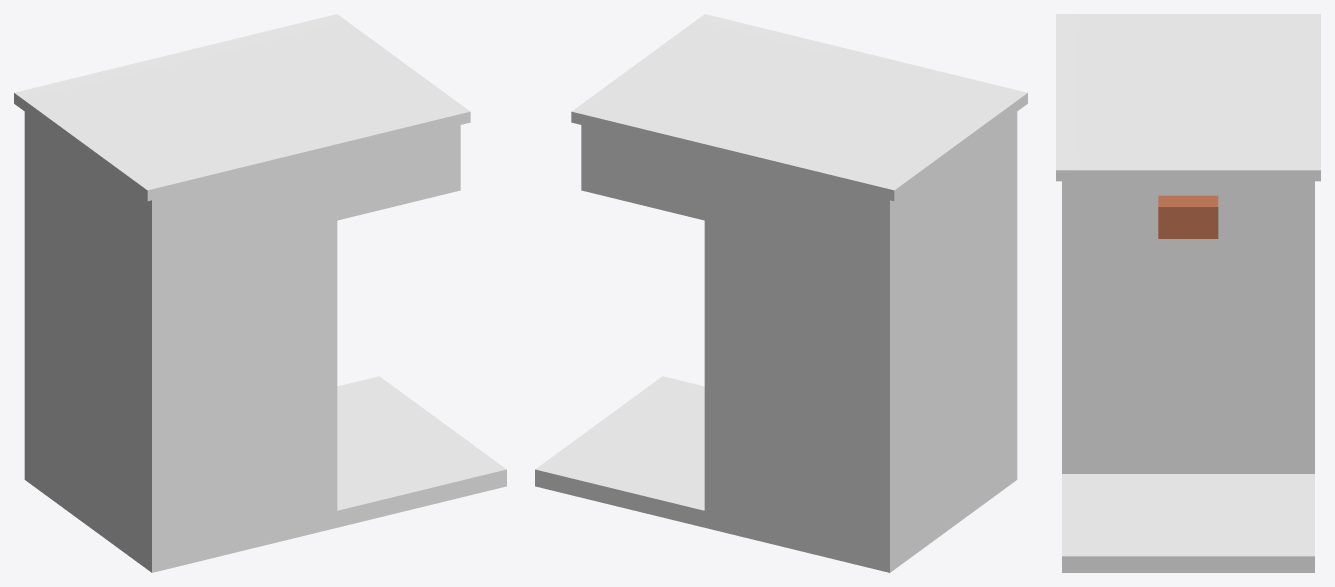
The model's file is CoffeeMachine.fbx.
3 renders of one model, left to right at view 1: azimuth 30°, elevation 25°; view 2: azimuth 150°, elevation 25°; view 3: azimuth 270°, elevation 25°, orthographic.
Parts seen in each view (by area): view 1: CoffeeMachine; view 2: CoffeeMachine; view 3: CoffeeMachine.
Part boxes in pixels (x1=…): CoffeeMachine: x1=14, y1=14, x2=506, y2=572; CoffeeMachine: x1=535, y1=14, x2=1027, y2=572; CoffeeMachine: x1=1056, y1=14, x2=1320, y2=572.
Bounding box in the file's own units: 328 × 335 × 209.
